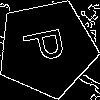P: (21, 23, 74, 66)
